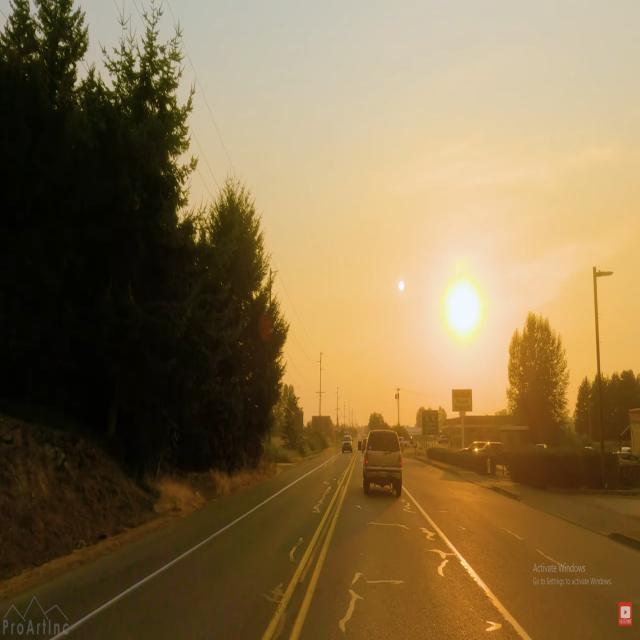sun: (436, 272, 491, 352)
